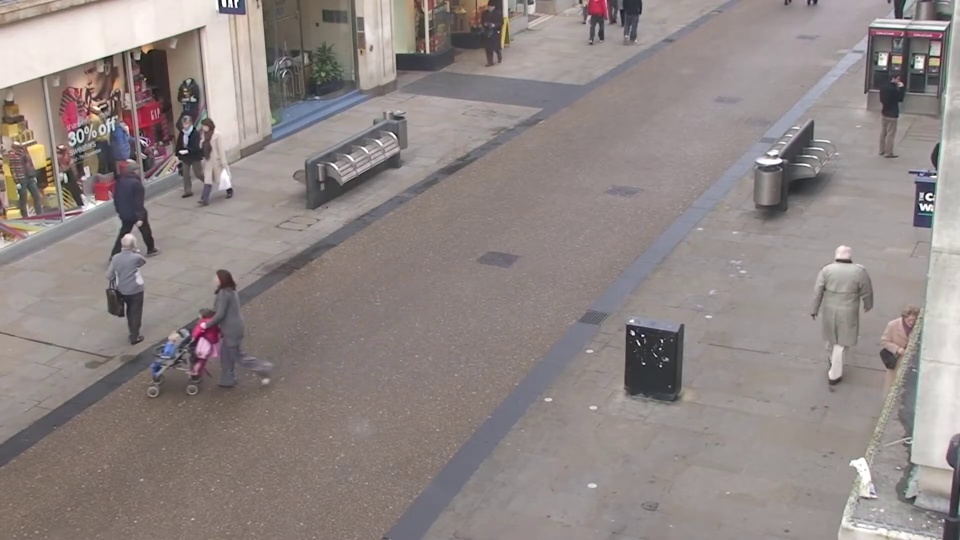pedestrian: (879, 302, 940, 451), (132, 321, 193, 468), (183, 263, 236, 395), (112, 226, 164, 348), (813, 234, 862, 362), (127, 149, 171, 251), (184, 117, 222, 210), (165, 113, 203, 205), (872, 68, 911, 155), (477, 0, 500, 63)
